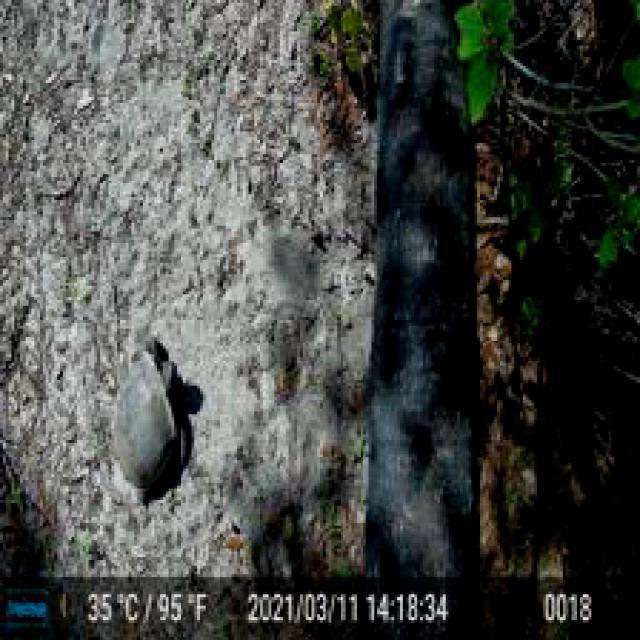tortoise: (106, 340, 194, 488)
